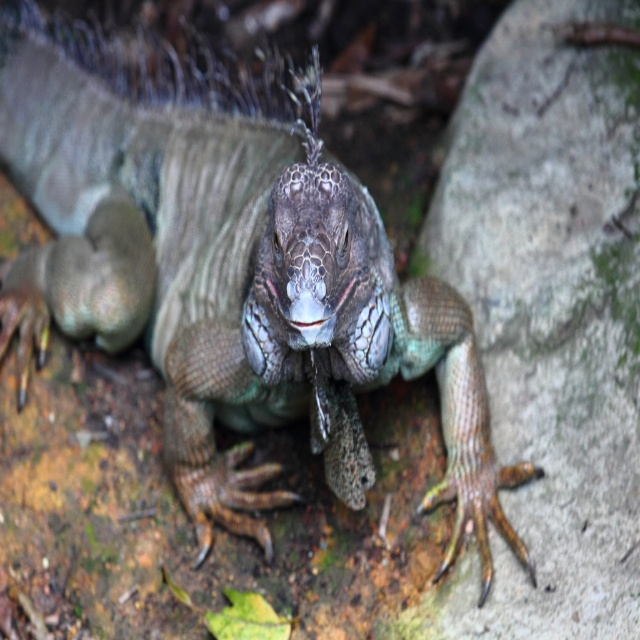Lizard: (90, 67, 560, 616)
